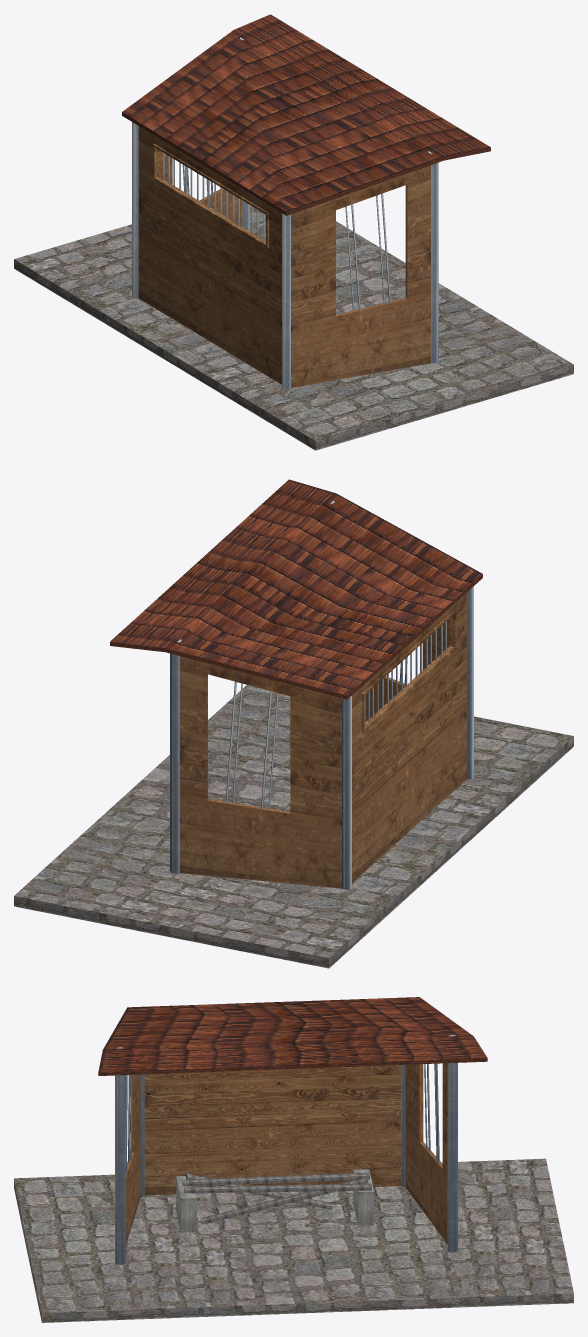
File: موقف.FBX
3 renders of one model, top to bottom at view 1: azimuth 30°, elevation 25°; view 2: azimuth 150°, elevation 25°; view 3: azimuth 270°, elevation 25°, orthographic. The views are drawn at different scales.
Visible parts, largest first — view 1: Box067, Box063, Box065, Box066, Cylinder001, Cylinder003, Cylinder004, Box064; view 2: Box063, Box067, Box064, Box065, Cylinder002, Cylinder004, Cylinder003, Box066; view 3: Box063, Box065, Box067, Box064, Cylinder001, Cylinder002, Box066, Box070, Box072, Box071, Box068, Box069 (+3 smaller).
Part boxes in pixels (bbox=[...]): Box067: bbox=[122, 14, 490, 215]; Box063: bbox=[14, 205, 573, 450]; Box065: bbox=[138, 126, 281, 384]; Box066: bbox=[291, 165, 430, 387]; Cylinder001: bbox=[428, 151, 438, 363]; Cylinder003: bbox=[282, 213, 290, 389]; Cylinder004: bbox=[132, 122, 138, 298]; Box064: bbox=[159, 150, 242, 226]; Box063: bbox=[14, 685, 573, 968]; Box067: bbox=[110, 479, 482, 699]; Box064: bbox=[179, 656, 341, 888]; Box065: bbox=[352, 592, 466, 882]; Cylinder002: bbox=[170, 639, 181, 873]; Cylinder004: bbox=[342, 696, 351, 889]; Cylinder003: bbox=[467, 586, 473, 779]; Box066: bbox=[365, 619, 449, 721]; Box063: bbox=[14, 1158, 573, 1322]; Box065: bbox=[144, 1065, 401, 1195]; Box067: bbox=[98, 997, 487, 1075]; Box064: bbox=[405, 1063, 447, 1244]; Cylinder001: bbox=[115, 1047, 125, 1264]; Cylinder002: bbox=[447, 1035, 457, 1252]; Box066: bbox=[125, 1074, 140, 1245]; Box070: bbox=[184, 1183, 371, 1193]; Box072: bbox=[182, 1172, 369, 1186]; Box071: bbox=[201, 1177, 368, 1224]; Box068: bbox=[176, 1176, 196, 1232]; Box069: bbox=[353, 1169, 373, 1225].
Size of the model in its own units: 342 by 231 by 524.
Materials: 6 (6 with a texture image).
